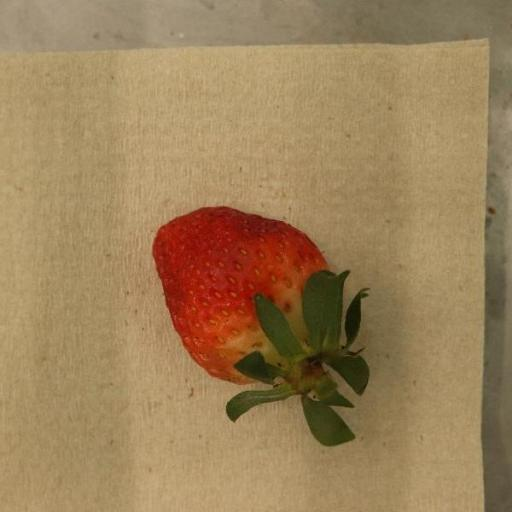Strawberry: (153, 207, 371, 448)
